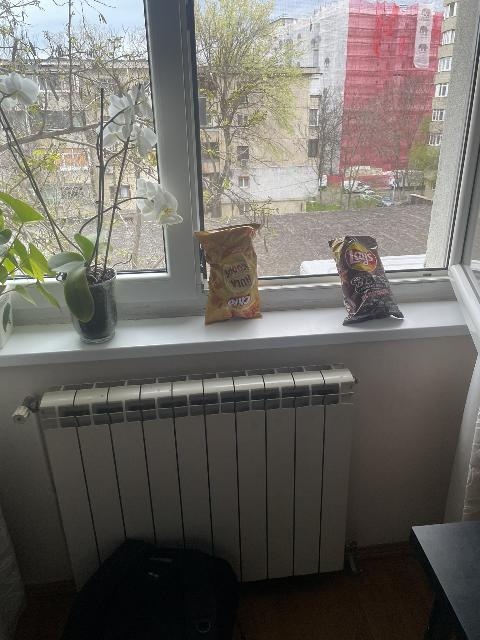Chio Hula Hoops Cheese 70g: (194, 223, 264, 324)
Lays Beef Grilled Ribs 125g: (332, 235, 404, 325)
